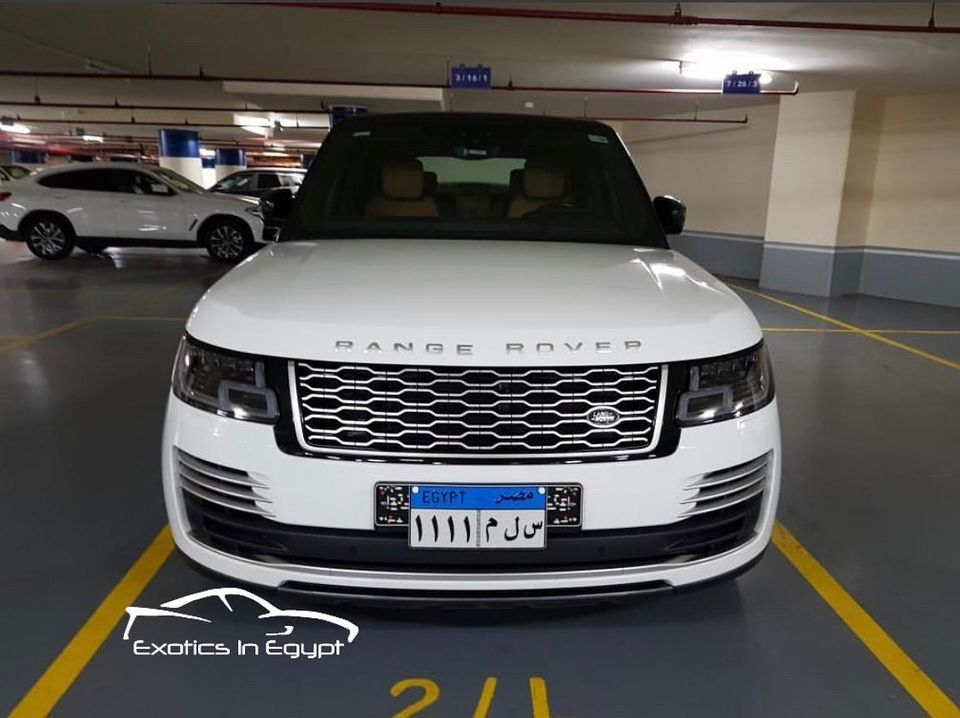carpl: (408, 501, 548, 545)
